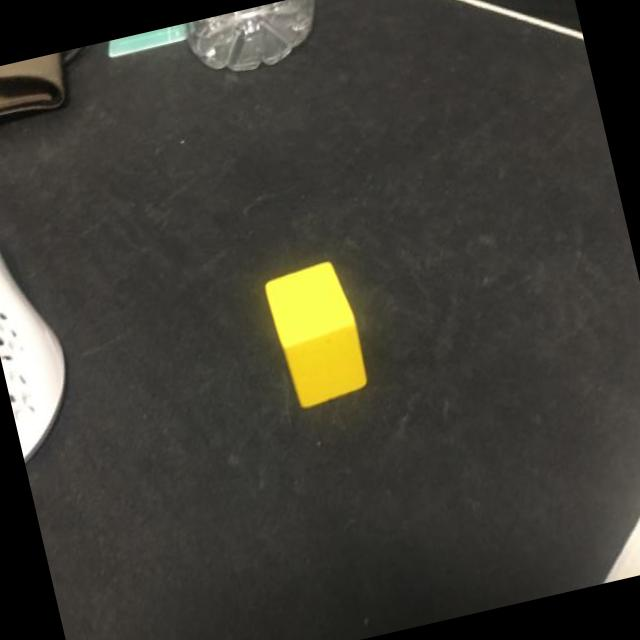yellow: (262, 256, 371, 408)
